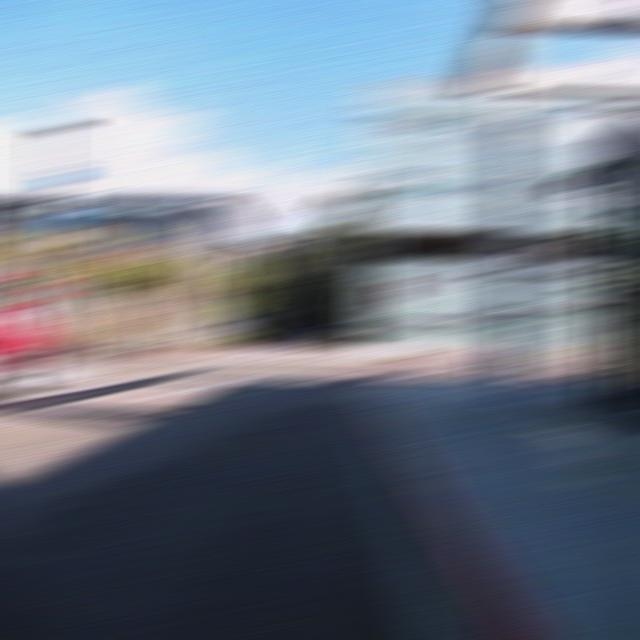stop: (27, 282, 67, 305), (380, 279, 416, 302)
